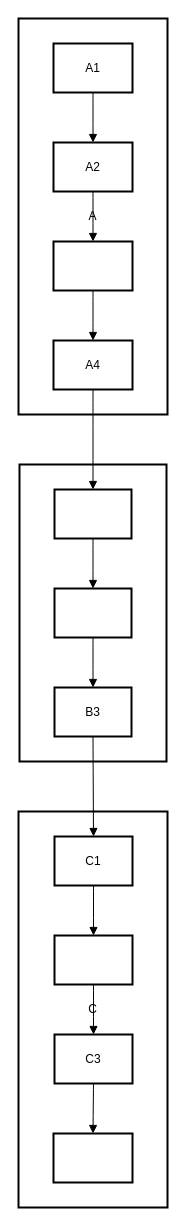
Some shapes in this 185 by 1225 pixel diagram are drawn without their labels. The shapes that lost their labels are listed below. From the top down, each one's centre as x and y in pixels, then its label:
the point at 92,265: A3
the point at 92,513: B1
the point at 92,612: B2
the point at 93,959: C2
the point at 92,1157: C4
